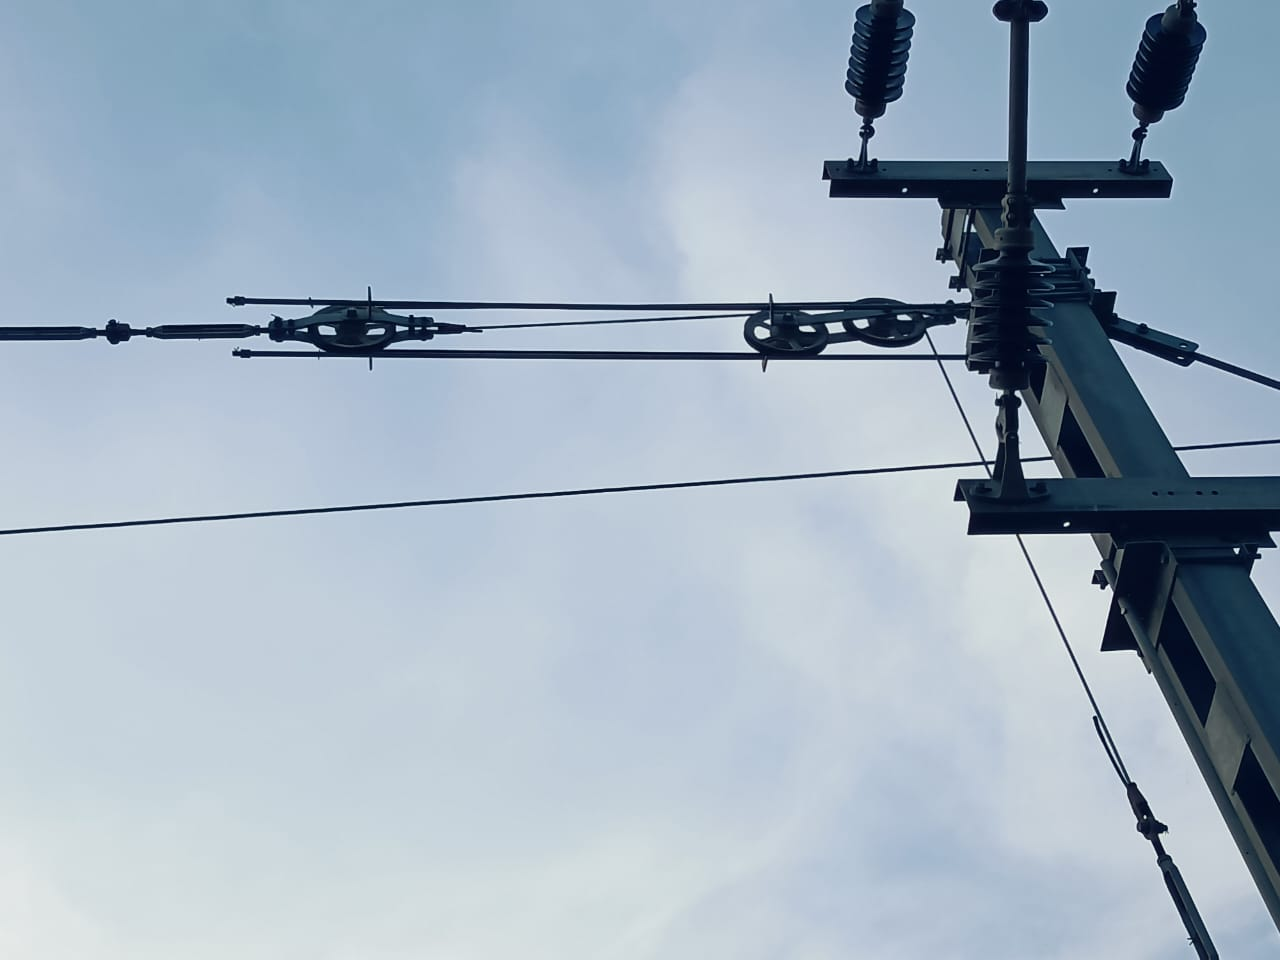Pulley: (299, 285, 403, 361), (742, 298, 833, 362), (849, 289, 923, 353)
objectA: (967, 225, 1066, 408), (1124, 0, 1213, 137), (849, 9, 921, 119)
pole: (902, 138, 1092, 749)
